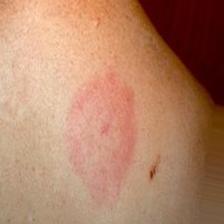Tick: (54, 59, 146, 206)
